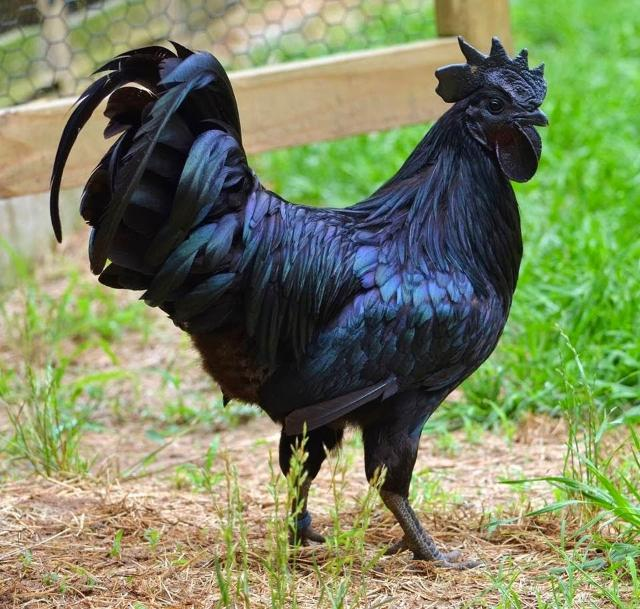Chicken: (49, 37, 549, 557)
